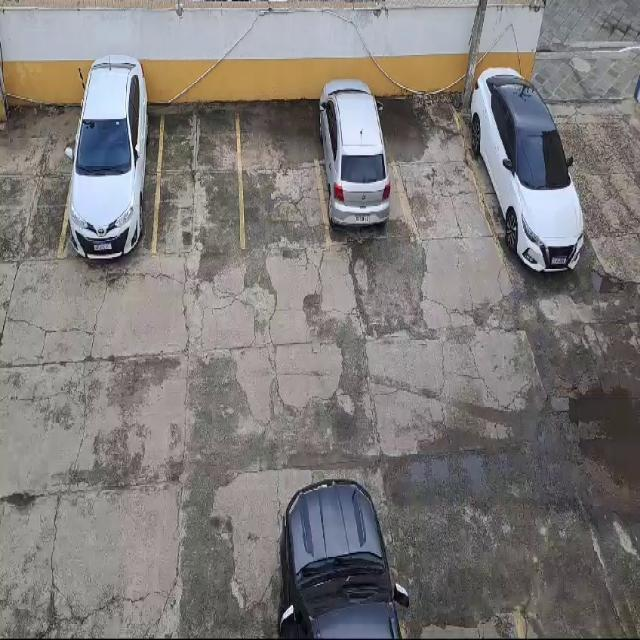empty: (379, 94, 494, 240), (237, 100, 331, 250), (154, 103, 245, 257)
notEmpty: (451, 82, 582, 238), (61, 98, 163, 258), (309, 95, 414, 248)
